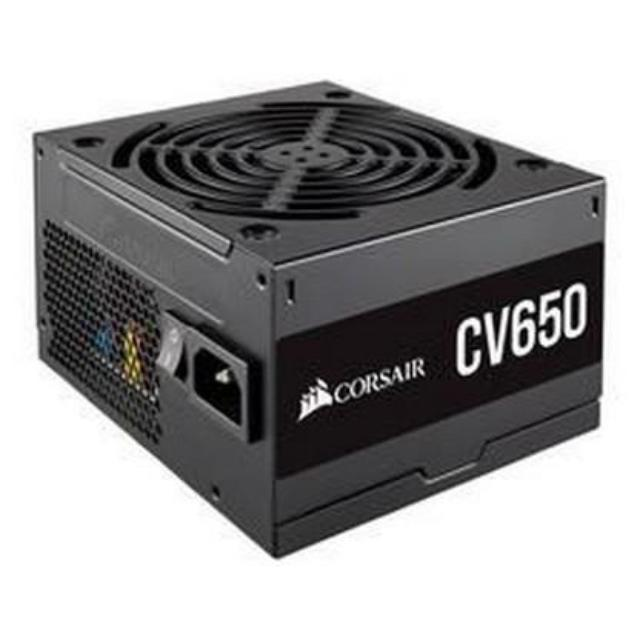PSU: (19, 62, 621, 564)
